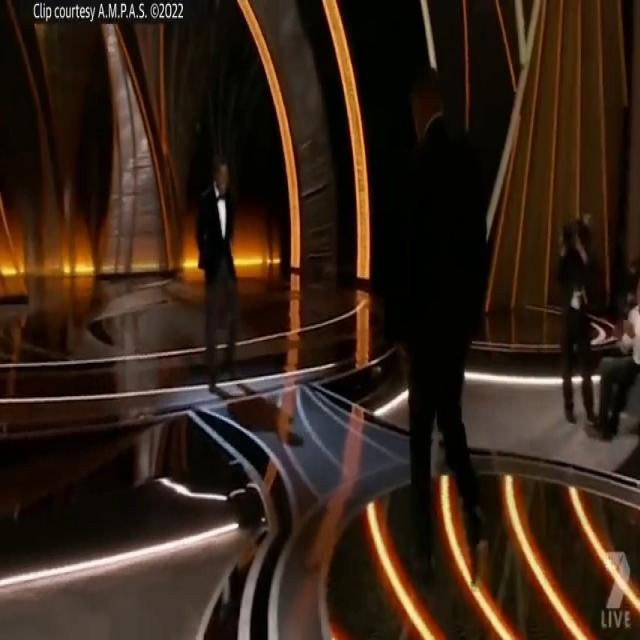non-fight: (375, 45, 525, 589), (186, 143, 265, 419)
